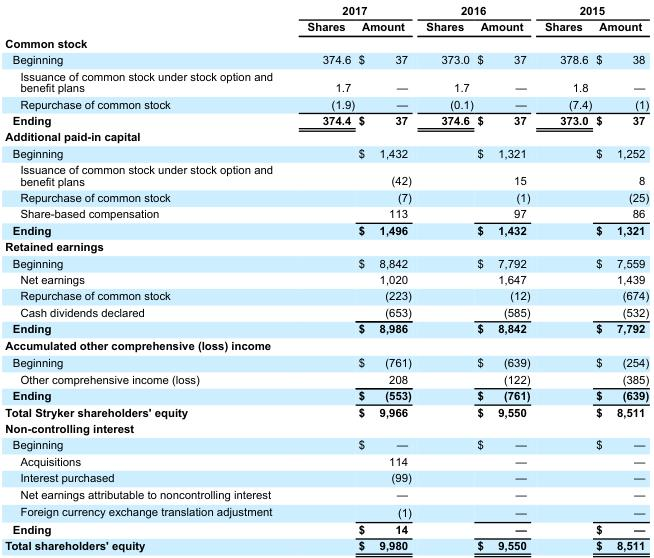table: (4, 3, 648, 551)
table column: (4, 3, 289, 551), (289, 3, 355, 551), (355, 3, 418, 551), (474, 3, 536, 551), (536, 3, 593, 551), (418, 3, 474, 551), (593, 3, 648, 551)
table column header: (4, 3, 648, 34)
table projected row header: (4, 34, 648, 51), (4, 336, 648, 353), (4, 419, 648, 436), (4, 128, 648, 144), (4, 238, 648, 254)
table row: (4, 67, 648, 95), (4, 161, 648, 188), (4, 502, 648, 520), (4, 34, 648, 51), (4, 111, 648, 128), (4, 144, 648, 161), (4, 188, 648, 205), (4, 221, 648, 238), (4, 270, 648, 287), (4, 303, 648, 320), (4, 336, 648, 353), (4, 353, 648, 370), (4, 370, 648, 387), (4, 419, 648, 436), (4, 452, 648, 469), (4, 485, 648, 502), (4, 520, 648, 537), (4, 18, 648, 34), (4, 51, 648, 67), (4, 95, 648, 111), (4, 128, 648, 144), (4, 205, 648, 221), (4, 238, 648, 254), (4, 254, 648, 270), (4, 287, 648, 303), (4, 320, 648, 336), (4, 387, 648, 403), (4, 403, 648, 419), (4, 436, 648, 452), (4, 469, 648, 485), (4, 3, 648, 18), (4, 537, 648, 551)
table spanning cell: (289, 3, 418, 18), (418, 3, 536, 18), (536, 3, 648, 18)
